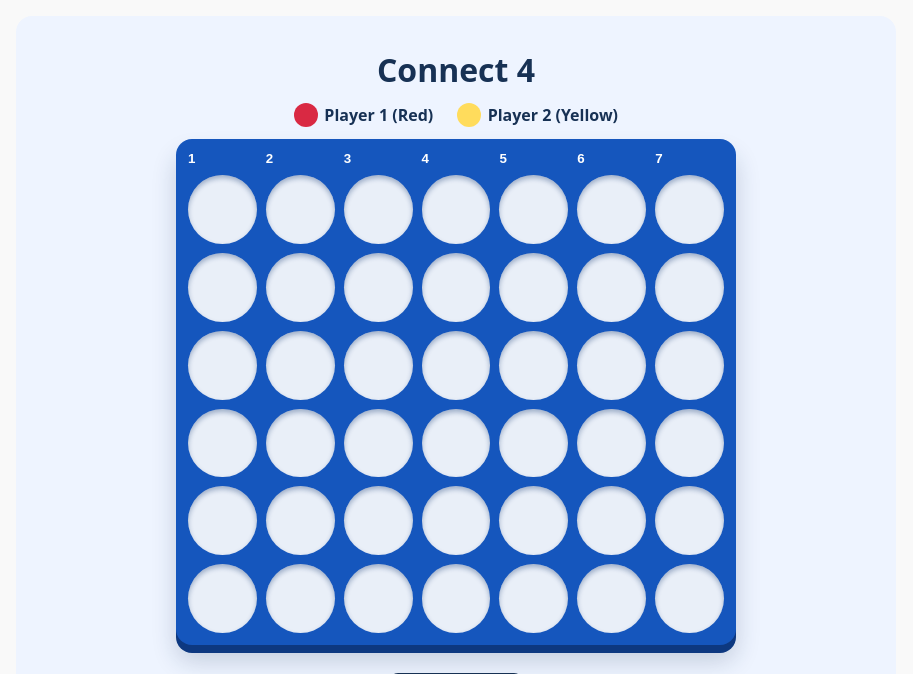
it: Connect 4 screen › disables only a full column
Step 1. Click the button named "Column 1," → (222, 392), box [188,151,257,633]
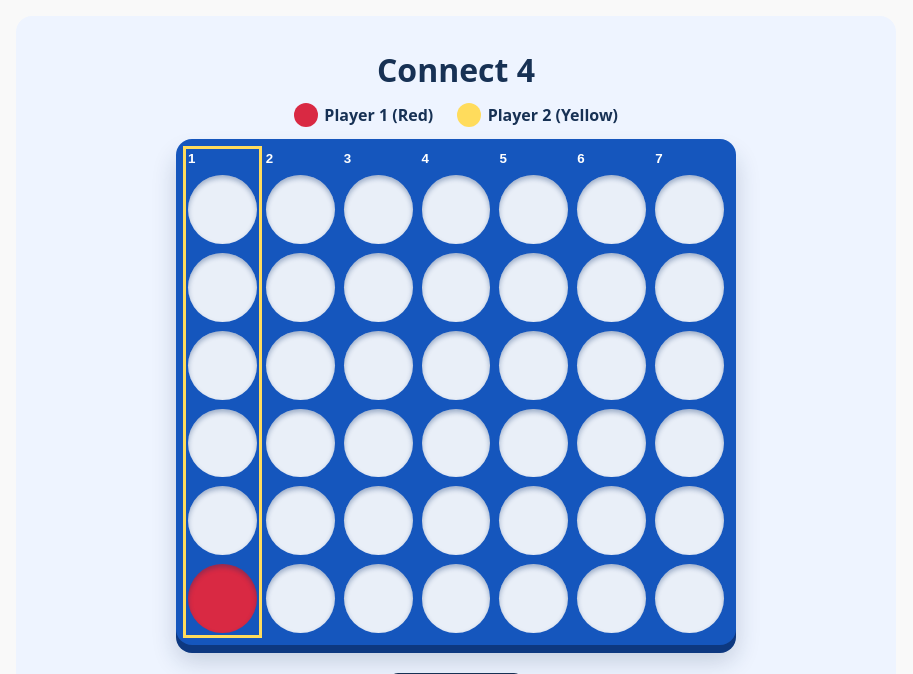
Step 2. Click the button named "Column 1," → (222, 392), box [188,151,257,633]
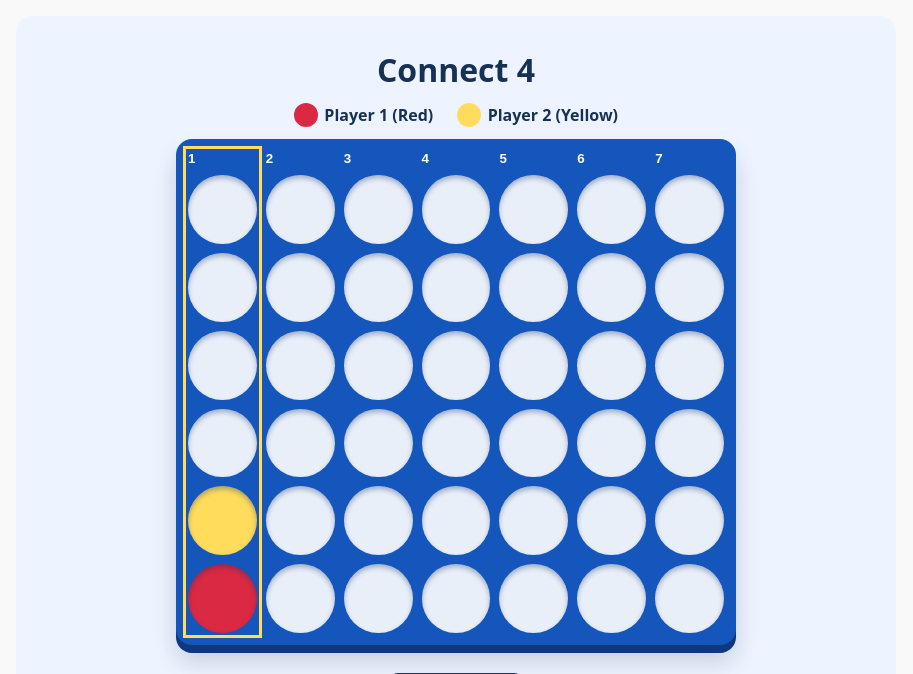
Step 3. Click the button named "Column 1," → (222, 392), box [188,151,257,633]
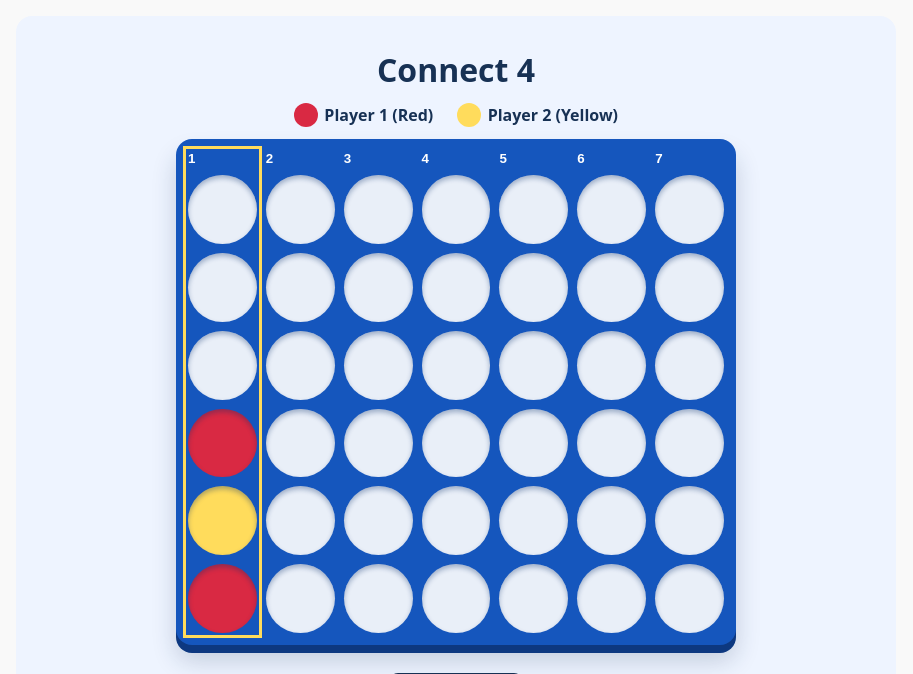
Step 4. Click the button named "Column 1," → (222, 392), box [188,151,257,633]
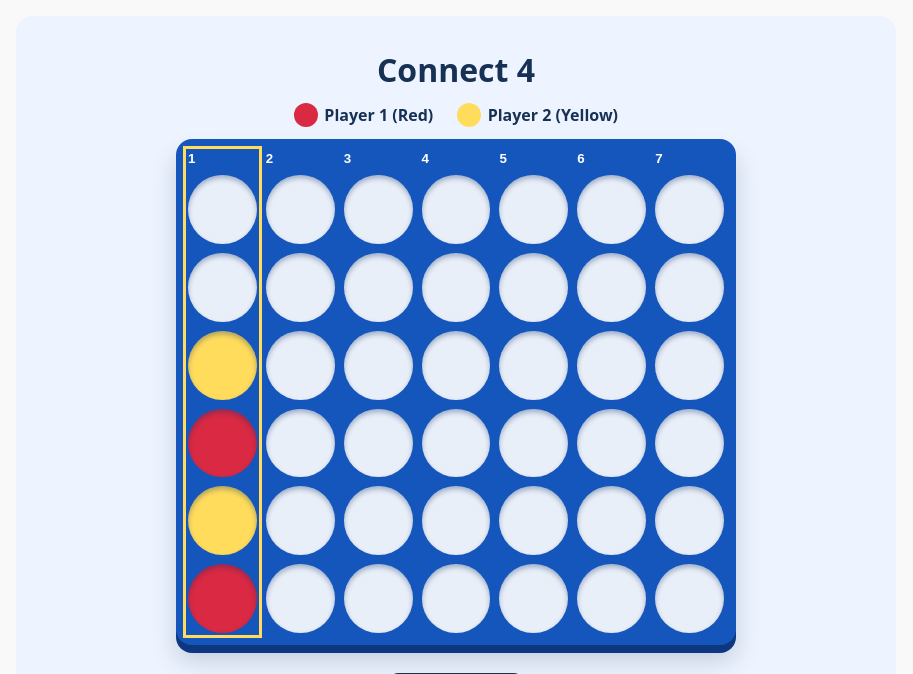
Step 5. Click the button named "Column 1," → (222, 392), box [188,151,257,633]
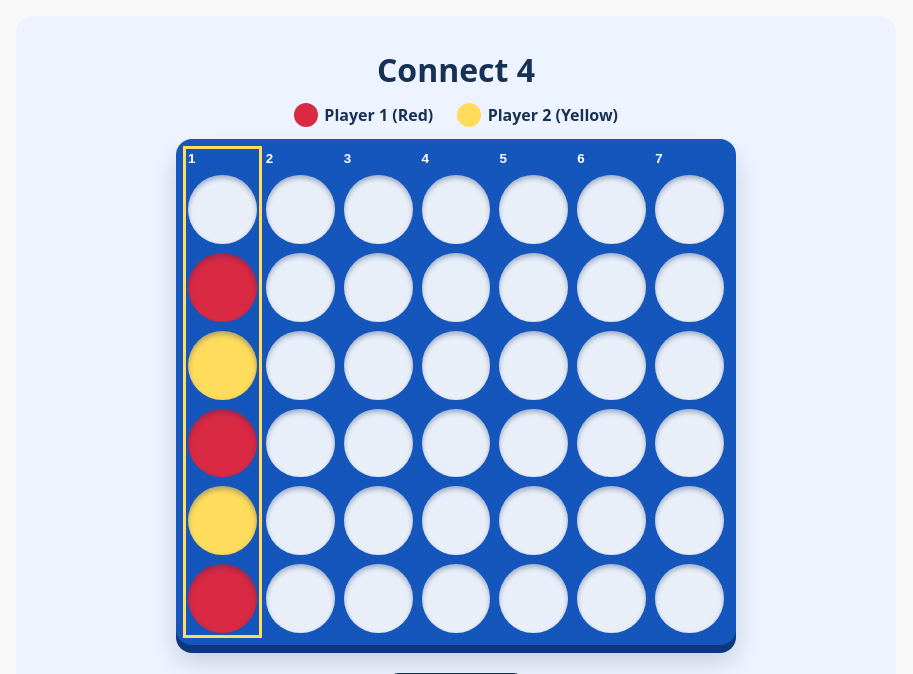
Step 6. Click the button named "Column 1," → (222, 392), box [188,151,257,633]
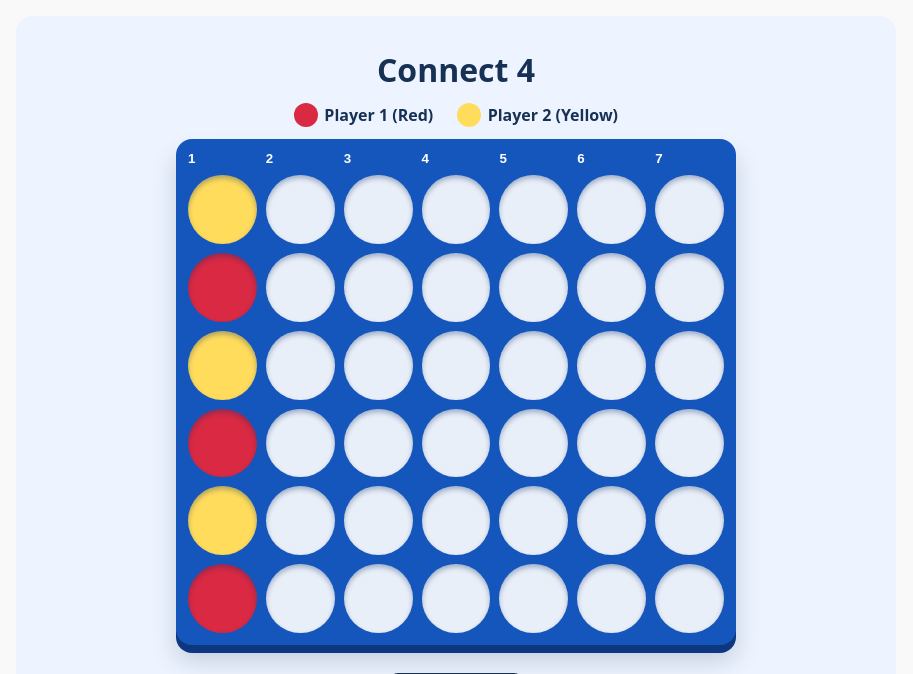
Expected: the button named "Column 2," is enabled, [266,151,335,633]
Expected: the button named "Column 1," is disabled, [188,151,257,633]
